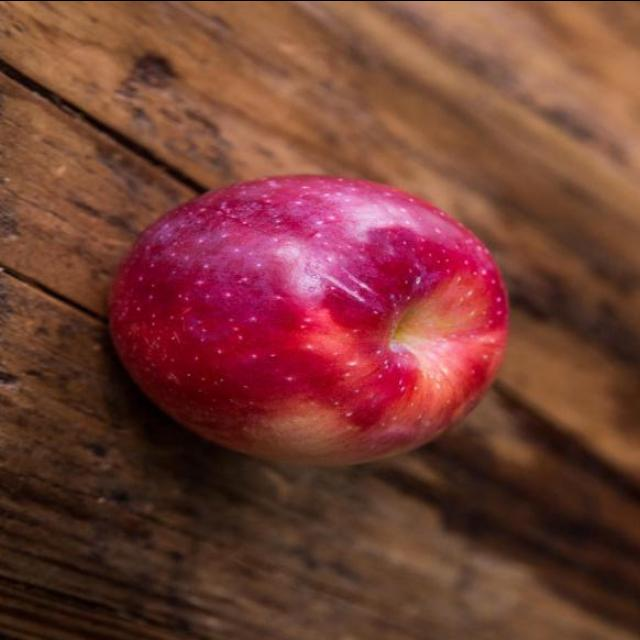apple: (82, 166, 518, 466)
